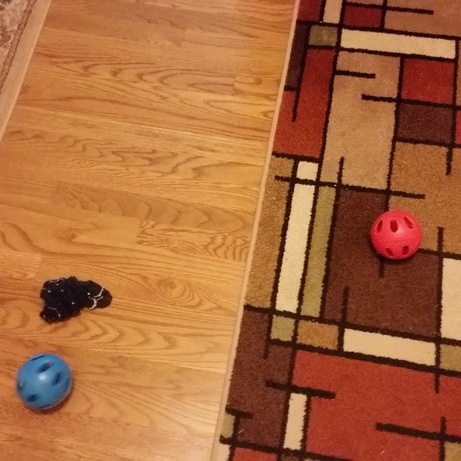blueball: (12, 349, 76, 413)
redball: (367, 206, 424, 262)
